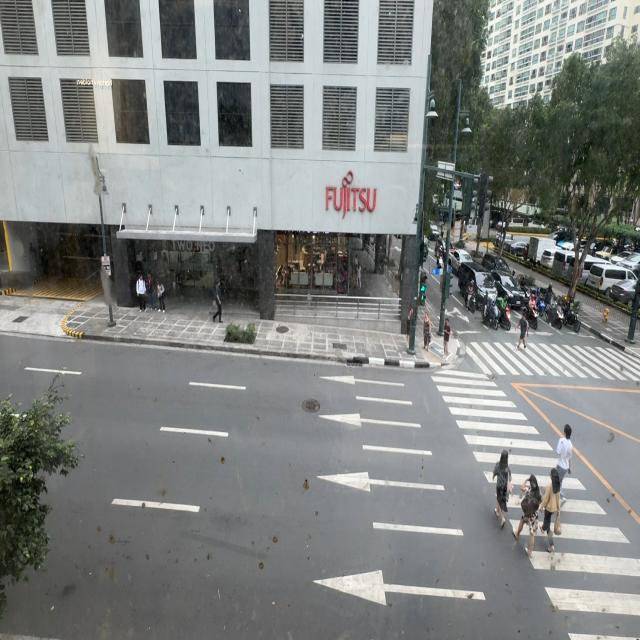crossing: (513, 474, 542, 558), (537, 468, 561, 553), (554, 424, 576, 514), (492, 448, 512, 529), (492, 449, 512, 524), (554, 425, 573, 501), (517, 310, 529, 352)
pedestrain: (212, 279, 223, 323), (136, 274, 147, 312), (406, 308, 415, 350), (356, 263, 362, 289)
waiting: (421, 308, 434, 359), (422, 311, 432, 353), (406, 308, 415, 350), (443, 318, 451, 357)
